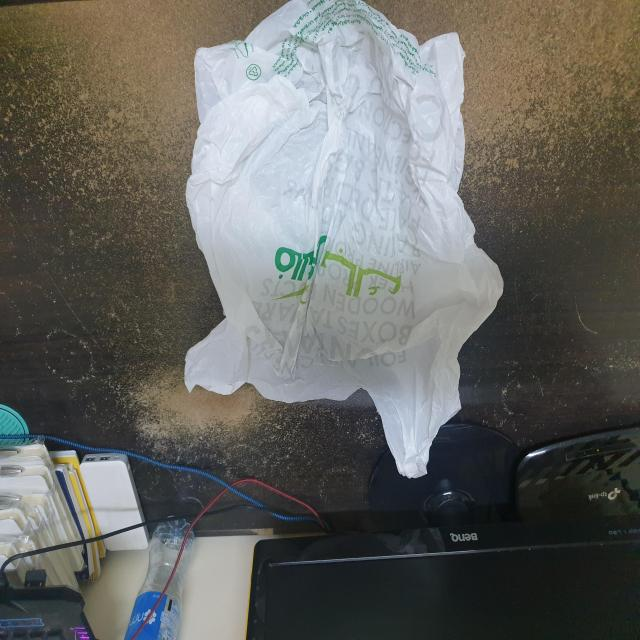plastic bag: (182, 0, 503, 480)
